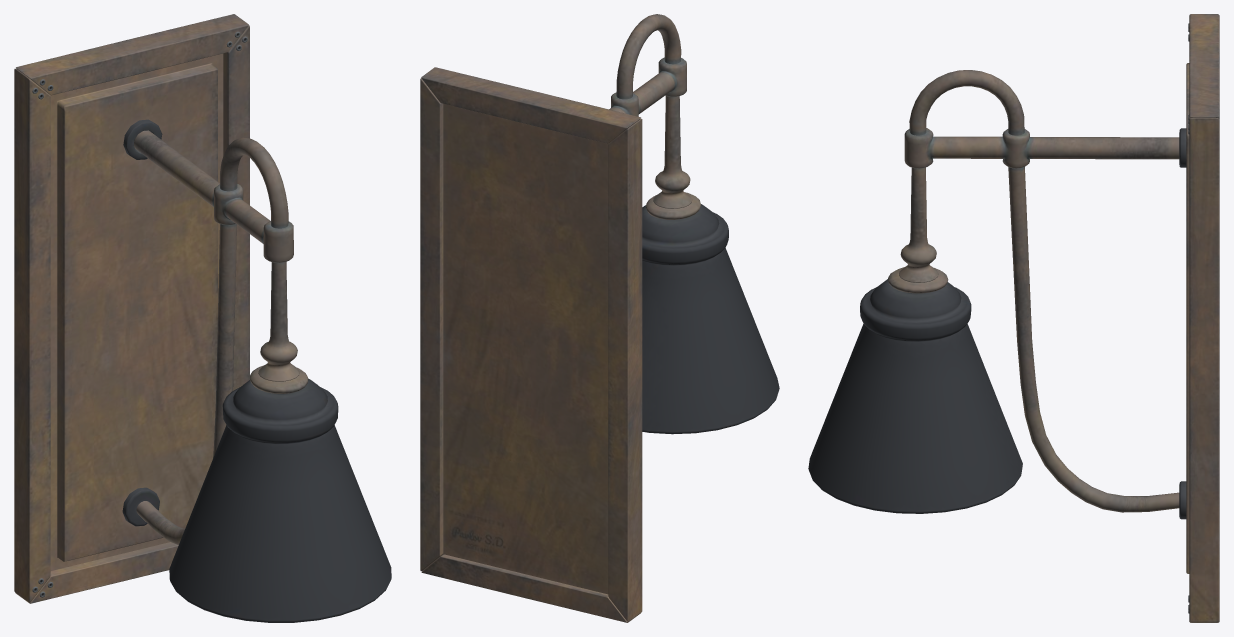
Rendered from industrial_wall_sconce.gltf.
The picture shows the model from 3 angles, left to right: view 1: azimuth 30°, elevation 25°; view 2: azimuth 150°, elevation 25°; view 3: azimuth 270°, elevation 25°; orthographic projection. The views are drawn at different scales.
Parts seen in each view (by area): view 1: industrial_wall_sconce; view 2: industrial_wall_sconce; view 3: industrial_wall_sconce.
Boxes of the visible parts, left/top/right/bottom form: industrial_wall_sconce: left=14, top=14, right=391, bottom=622; industrial_wall_sconce: left=420, top=14, right=779, bottom=622; industrial_wall_sconce: left=808, top=14, right=1219, bottom=622.
Bounding box in the file's own units: 0.1503 × 0.3418 × 0.2516.
2 materials, 2 textured.
